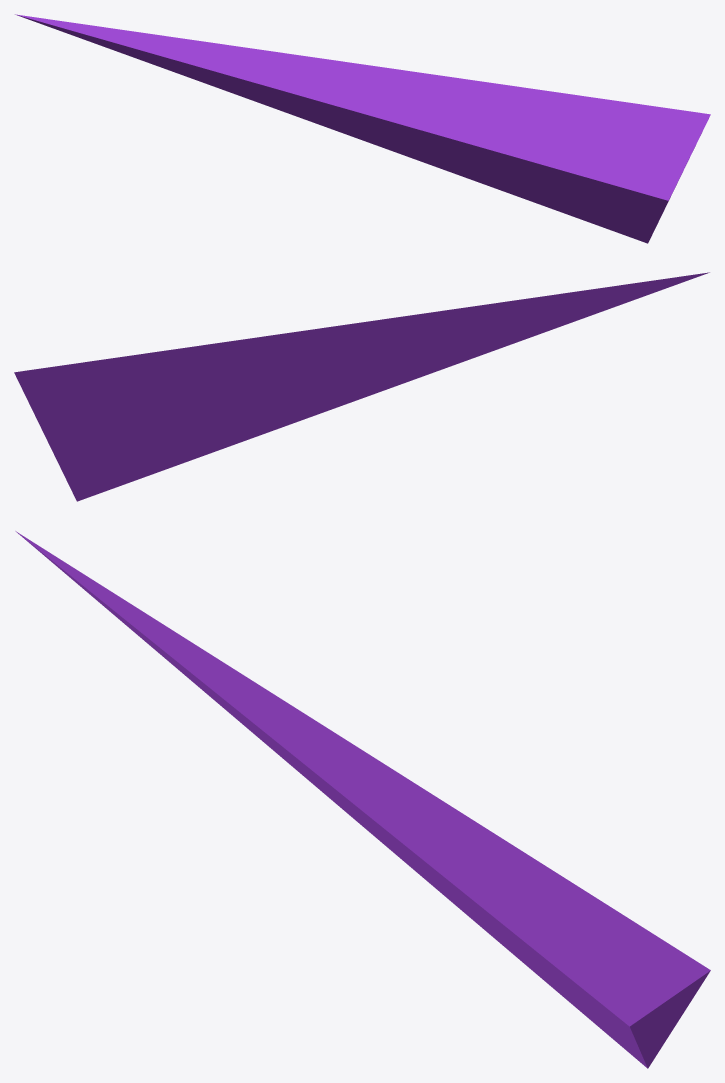
Rendered from Glass_97_1_chunks.fbx.
The picture shows the model from 3 angles, top to bottom: view 1: azimuth 30°, elevation 25°; view 2: azimuth 150°, elevation 25°; view 3: azimuth 330°, elevation 25°; orthographic projection.
Visible parts, largest first — view 1: Glass_97_1_0; view 2: Glass_97_1_0; view 3: Glass_97_1_0.
Part boxes in pixels (x1,y1,x2,y2): Glass_97_1_0: (15,14,710,243); Glass_97_1_0: (14,272,709,501); Glass_97_1_0: (15,531,710,1068).
Size of the model in its own units: 281 by 148 by 13.6.
